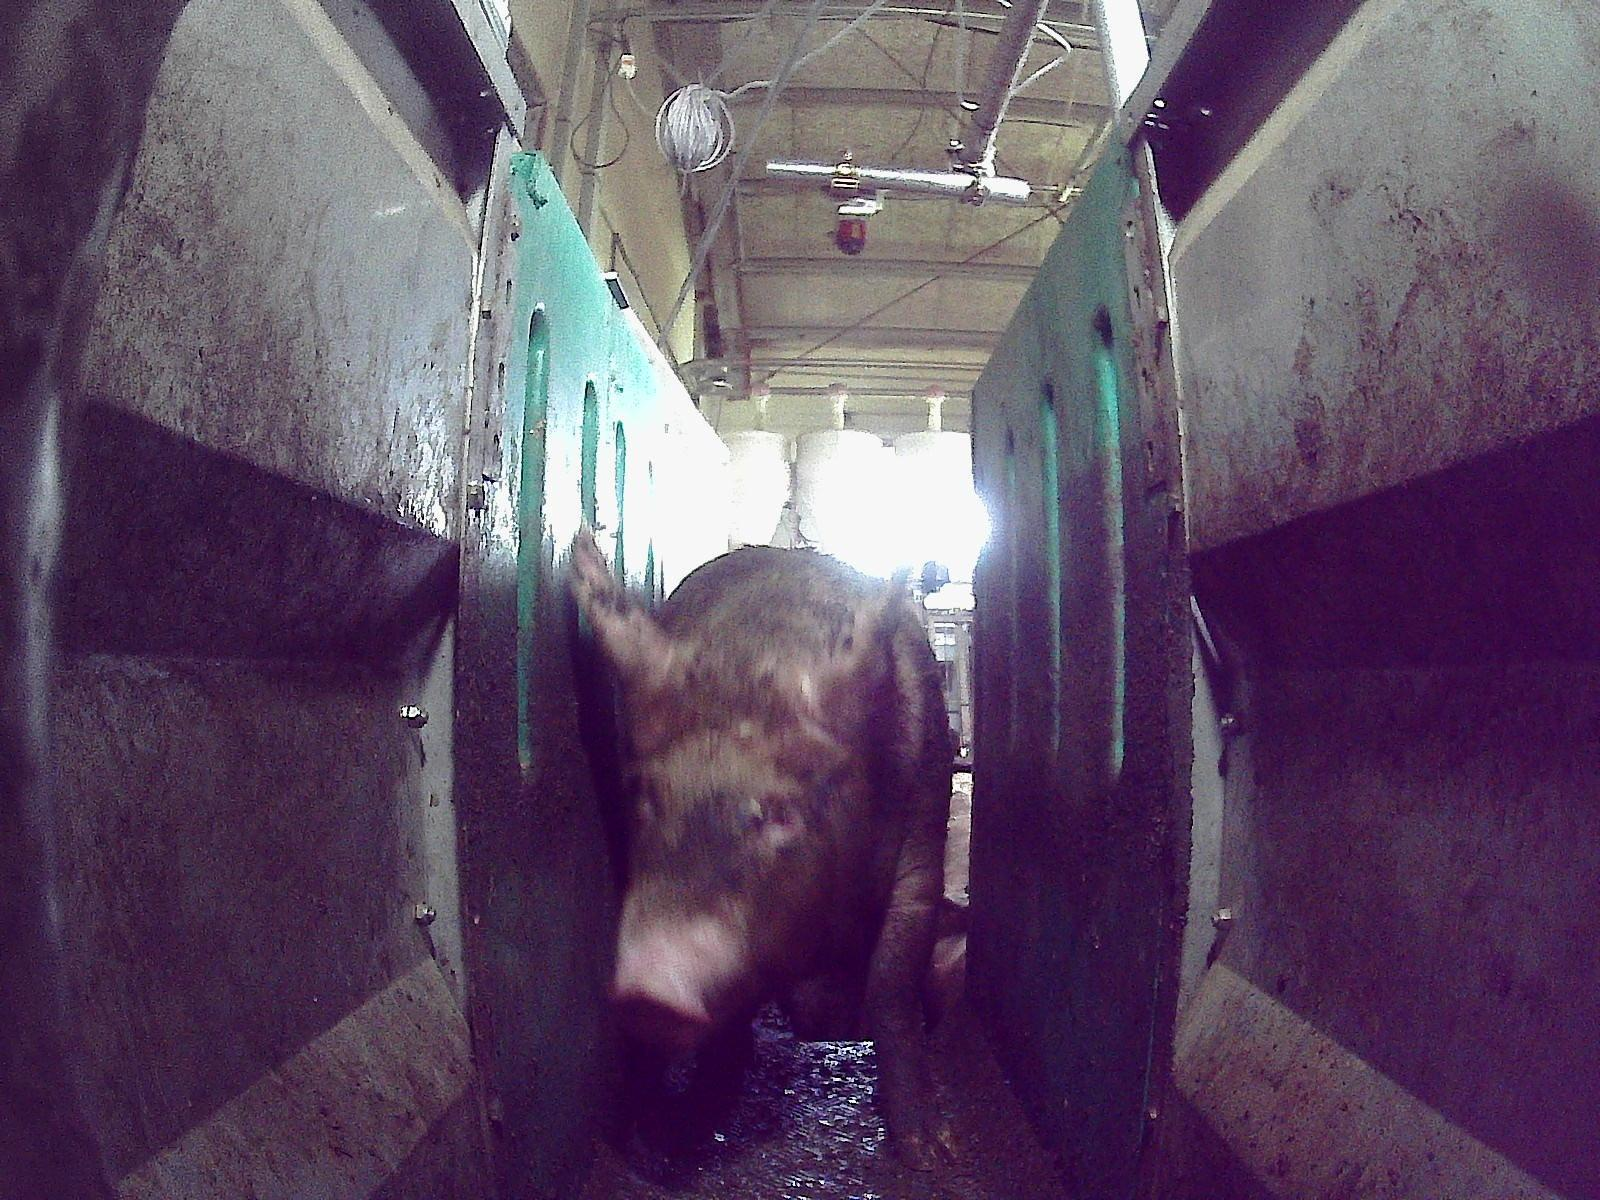Face: (607, 650, 859, 1044)
